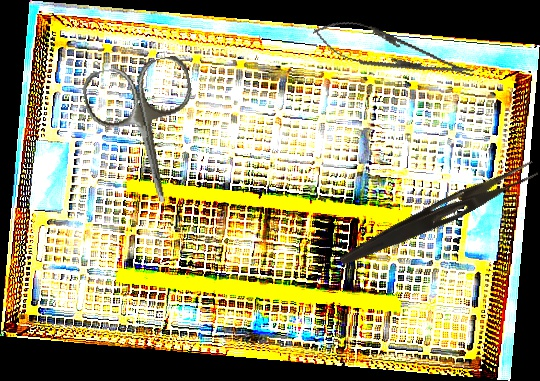Dressing Forceps: (337, 152, 540, 277)
Iris Scissors: (79, 53, 214, 214)
Needle Holder: (308, 11, 479, 94)
